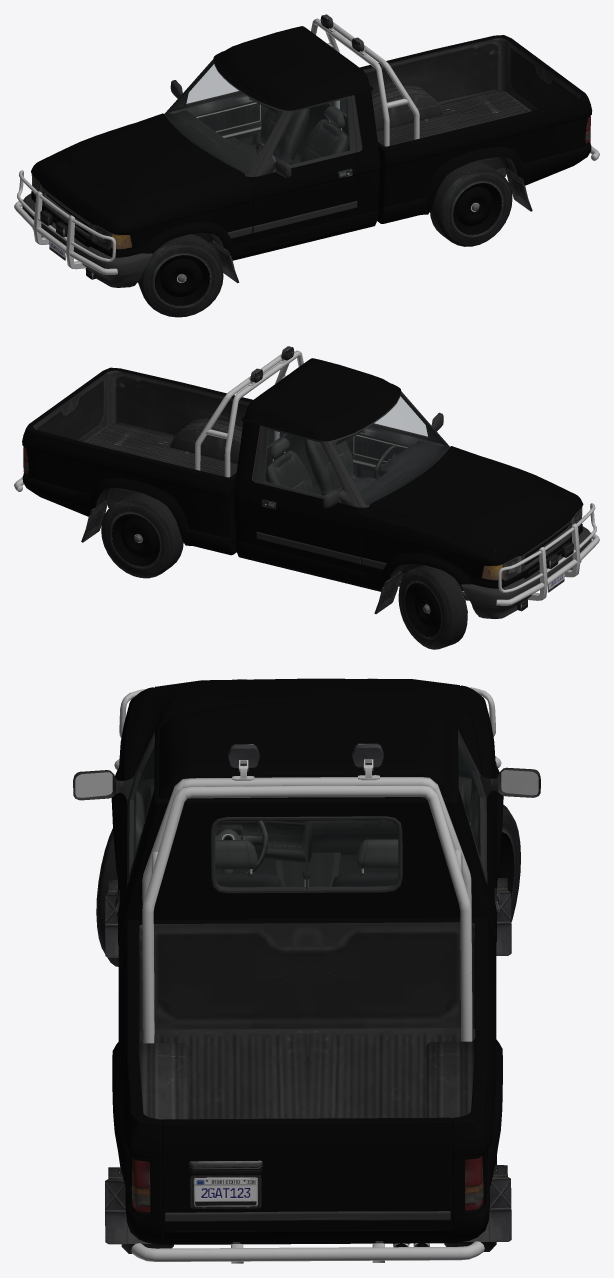
The model's file is pickup.glb.
3 renders of one model, top to bottom at view 1: azimuth 30°, elevation 25°; view 2: azimuth 150°, elevation 25°; view 3: azimuth 270°, elevation 25°, orthographic. The views are drawn at different scales.
Parts seen in each view (by area): view 1: Body_cabin_body_0, hood_body_0, trunk_body_body_0, bottom_trunk_UCB_BOTTOM_0, Door_left_body_0, Windshield_UCB_GLASS_CLEAN_0, Wheel_FL_RB4_StampedEuro_black_0, Wheel_RL_RB4_StampedEuro_black_0, Door_glass_left_UCB_GLASS_CLEAN_0, Seats_GEN4DR_INTERIOR_0, Doorcard_right_GEN4DR_INTERIOR_0, Bullbar_UCB_BOTTOM_0 (+9 smaller); view 2: Body_cabin_body_0, trunk_body_body_0, hood_body_0, bottom_trunk_UCB_BOTTOM_0, Door_right_body_0, Windshield_UCB_GLASS_CLEAN_0, Wheel_RR_RB4_StampedEuro_black_0, Wheel_FR_RB4_StampedEuro_black_0, Door_glass_right_UCB_GLASS_CLEAN_0, Seats_GEN4DR_INTERIOR_0, Bullbar_UCB_BOTTOM_0, Trunk_door_inner_UCB_BOTTOM_0 (+9 smaller); view 3: bottom_trunk_UCB_BOTTOM_0, Body_cabin_body_0, Trunkdoor_body_0, trunk_body_body_0, rollcage_UCB_BOTTOM_0, Rear_glass_UCB_GLASS_CLEAN_0, hood_body_0, Dashboard_GEN4DR_INTERIOR_0, bumper_rear_UCB_BOTTOM_0, bottom_cabin_UCB_BOTTOM_0, Trunk_door_inner_UCB_BOTTOM_0, Seats_GEN4DR_INTERIOR_0 (+13 smaller).
Boxes of the visible parts, <box> form: Body_cabin_body_0: <box>31,26,380,260</box>; hood_body_0: <box>32,113,250,230</box>; trunk_body_body_0: <box>359,35,592,223</box>; bottom_trunk_UCB_BOTTOM_0: <box>331,38,580,211</box>; Door_left_body_0: <box>251,152,358,251</box>; Windshield_UCB_GLASS_CLEAN_0: <box>166,61,281,173</box>; Wheel_FL_RB4_StampedEuro_black_0: <box>138,234,223,317</box>; Wheel_RL_RB4_StampedEuro_black_0: <box>430,161,512,246</box>; Door_glass_left_UCB_GLASS_CLEAN_0: <box>273,99,349,169</box>; Seats_GEN4DR_INTERIOR_0: <box>247,106,348,164</box>; Doorcard_right_GEN4DR_INTERIOR_0: <box>167,61,267,144</box>; Bullbar_UCB_BOTTOM_0: <box>14,170,117,274</box>; Body_cabin_body_0: <box>233,358,583,591</box>; trunk_body_body_0: <box>22,367,252,555</box>; hood_body_0: <box>363,446,581,561</box>; bottom_trunk_UCB_BOTTOM_0: <box>33,370,284,542</box>; Door_right_body_0: <box>255,483,362,582</box>; Windshield_UCB_GLASS_CLEAN_0: <box>332,393,448,504</box>; Wheel_RR_RB4_StampedEuro_black_0: <box>101,493,183,578</box>; Wheel_FR_RB4_StampedEuro_black_0: <box>398,565,467,649</box>; Door_glass_right_UCB_GLASS_CLEAN_0: <box>265,430,341,495</box>; Seats_GEN4DR_INTERIOR_0: <box>265,437,376,495</box>; Bullbar_UCB_BOTTOM_0: <box>496,503,599,605</box>; Trunk_door_inner_UCB_BOTTOM_0: <box>34,373,106,441</box>; bottom_trunk_UCB_BOTTOM_0: <box>105,922,511,1244</box>; Body_cabin_body_0: <box>111,685,503,944</box>; Trunkdoor_body_0: <box>162,1117,453,1231</box>; trunk_body_body_0: <box>112,917,502,1244</box>; rollcage_UCB_BOTTOM_0: <box>142,743,472,1043</box>; Rear_glass_UCB_GLASS_CLEAN_0: <box>215,820,397,887</box>; hood_body_0: <box>132,678,481,777</box>; Dashboard_GEN4DR_INTERIOR_0: <box>142,776,471,862</box>; bumper_rear_UCB_BOTTOM_0: <box>131,1241,484,1263</box>; bottom_cabin_UCB_BOTTOM_0: <box>105,801,511,957</box>; Trunk_door_inner_UCB_BOTTOM_0: <box>165,1160,452,1221</box>; Seats_GEN4DR_INTERIOR_0: <box>215,839,398,893</box>.
Size of the model in its own units: 208 by 80.64 by 82.63.
Materials: 7 (6 with a texture image).
